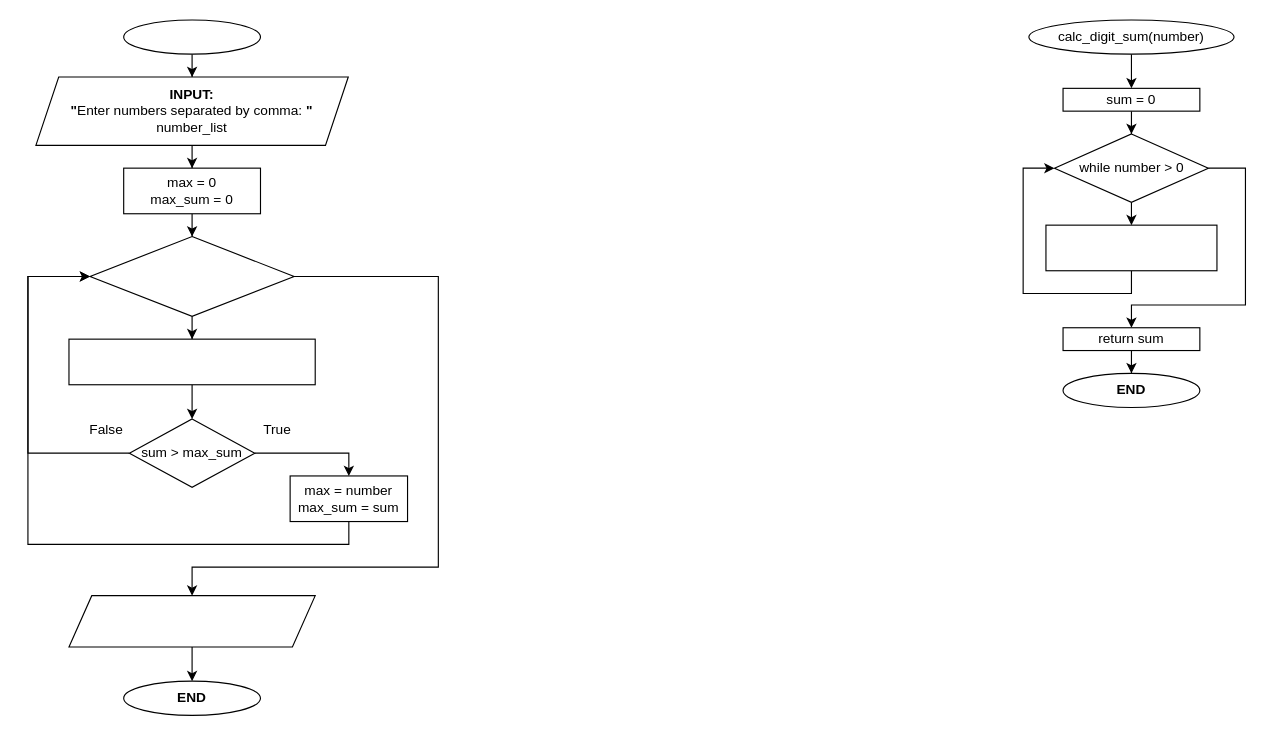
Image size: 1275x735. Some labels were removed from this diagram. The box of each missing label's shape, as (x1, y1, x2, y2) in pixels:
BEGIN: (123, 19, 260, 54)
for number in number_list:: (89, 235, 294, 316)
OUTPUT: max, max_sum: (68, 595, 315, 647)
sum += number % 10 number //= 10: (1045, 224, 1217, 271)
sum = calc_digit_sum(number): (68, 338, 315, 385)
